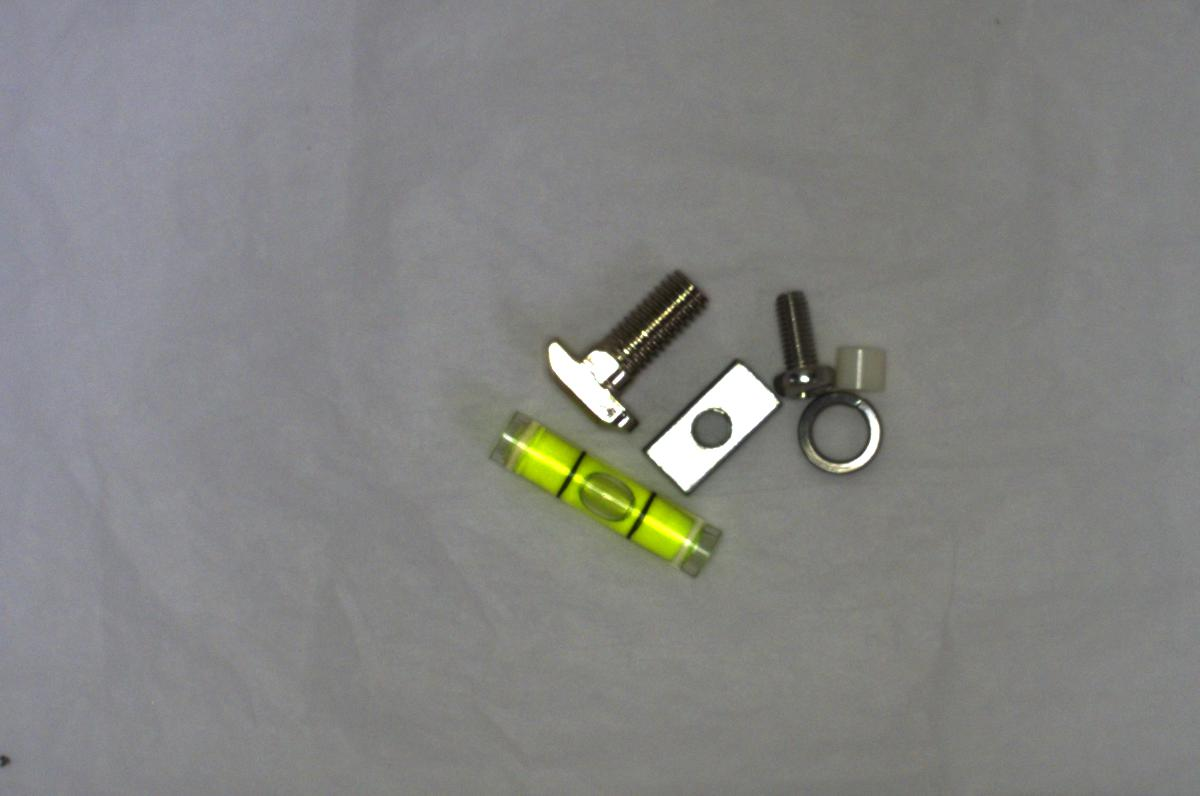Horizontal bubble: (473, 409, 728, 576)
Plastic cushion pillar: (824, 336, 893, 402)
Rectangular nut: (642, 352, 782, 498)
Round head screw: (767, 282, 833, 402)
Spring washer: (797, 387, 878, 479)
T-shaped screw: (534, 269, 704, 429)
